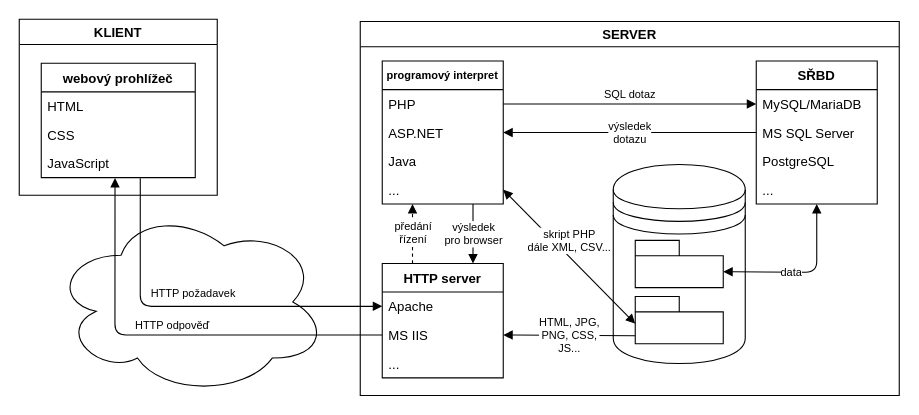
This 919x415 diagram has some shape labels left out. The centre of each missing label's shape, as x and y in pixels:
"databáze" goes at [678,263].
"htdocs" goes at [678,319].
"internet" goes at [189,301].
